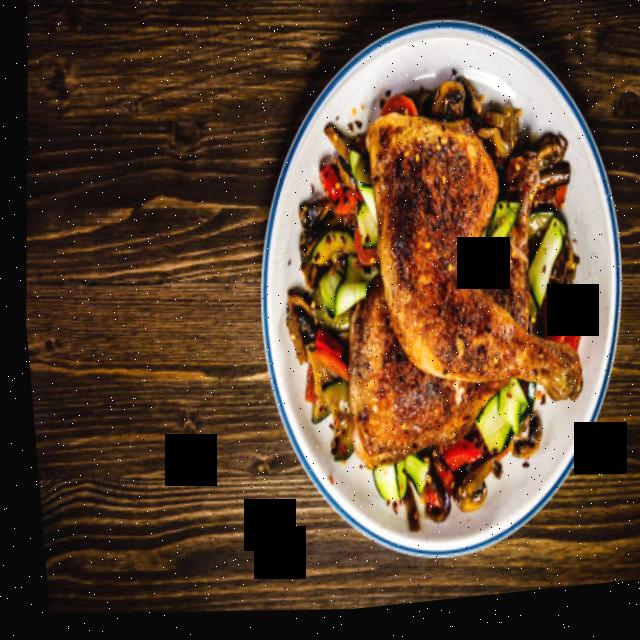Frango: (285, 95, 605, 503)
